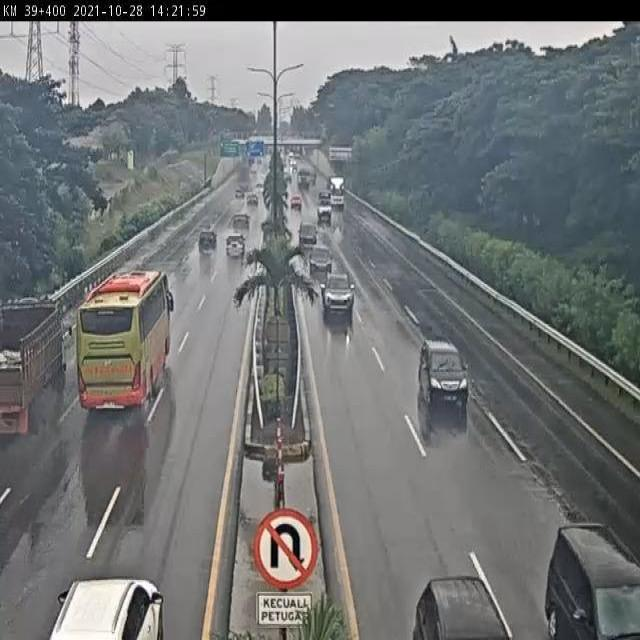big bus: (77, 268, 171, 416)
car: (418, 338, 469, 411), (321, 268, 357, 317), (308, 242, 333, 278), (225, 231, 249, 260), (197, 227, 218, 256), (297, 218, 317, 245)
truck-l-: (0, 305, 71, 440)
